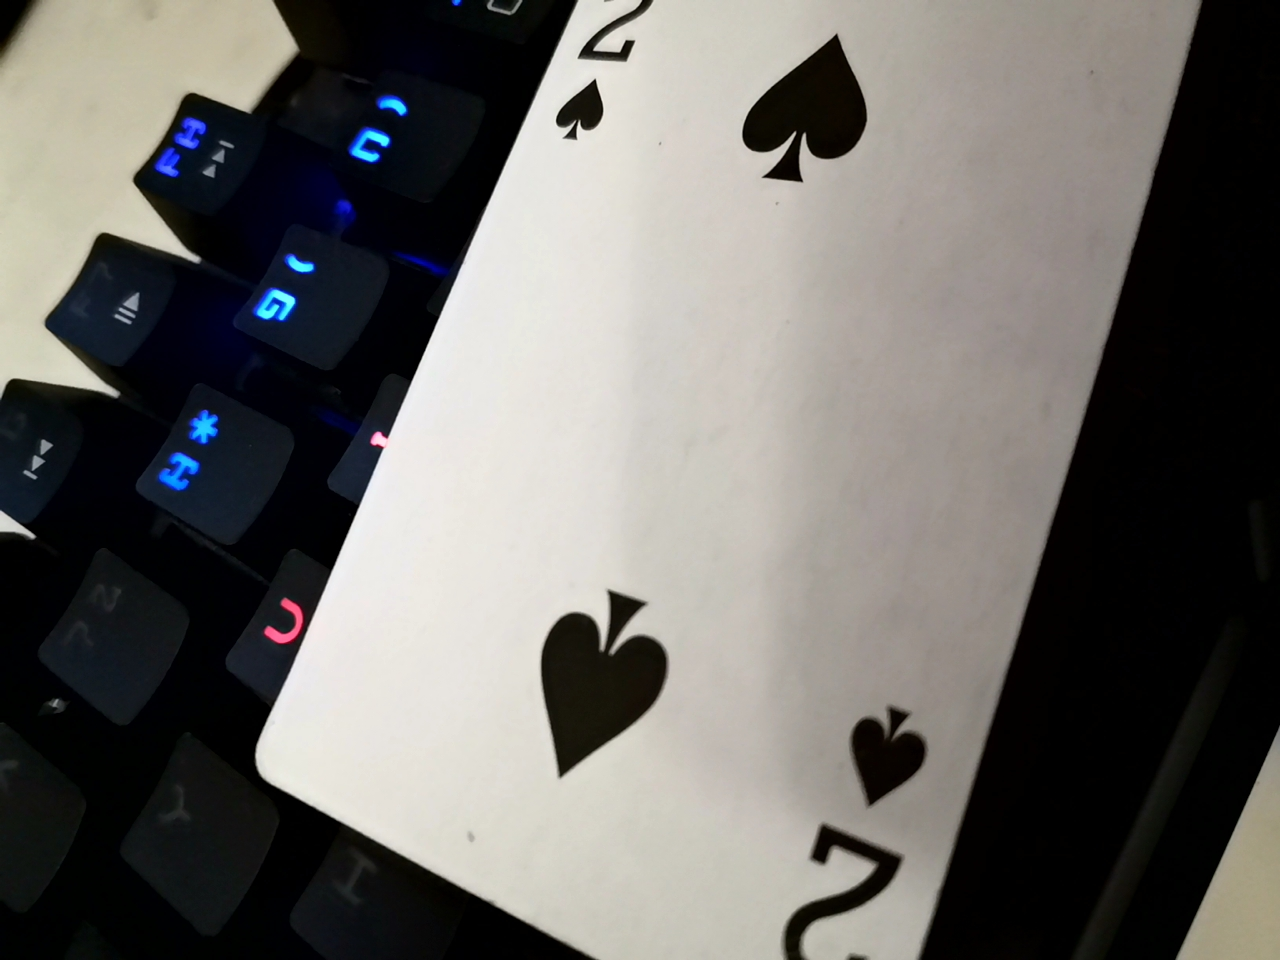ht 2: (219, 17, 1185, 958)
